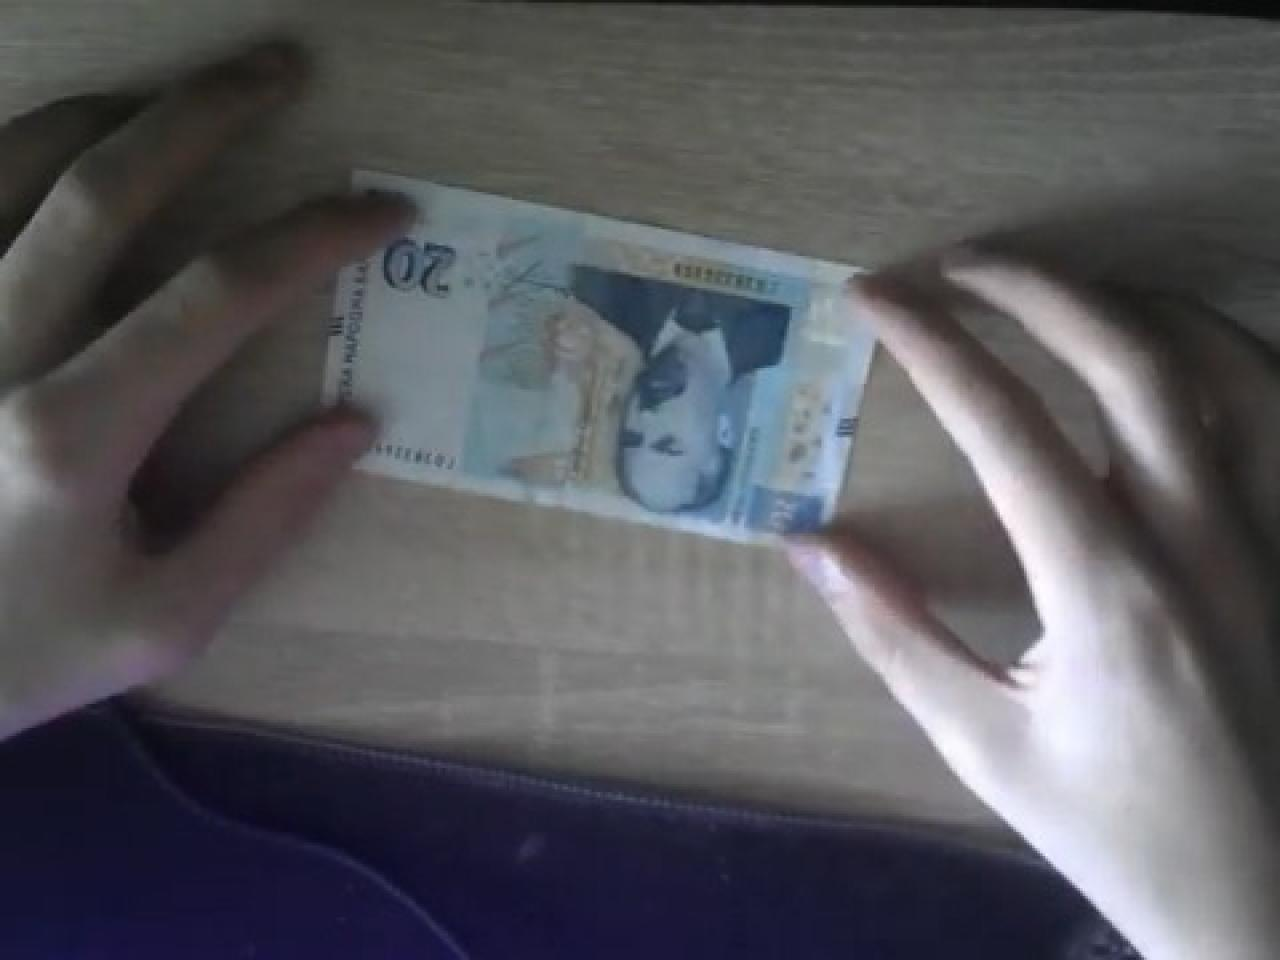20leva: (298, 165, 875, 542)
